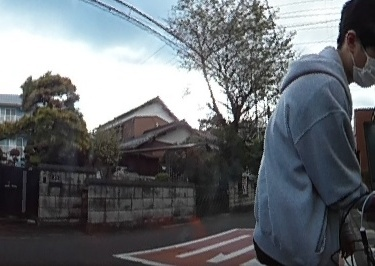person: (255, 0, 375, 266)
